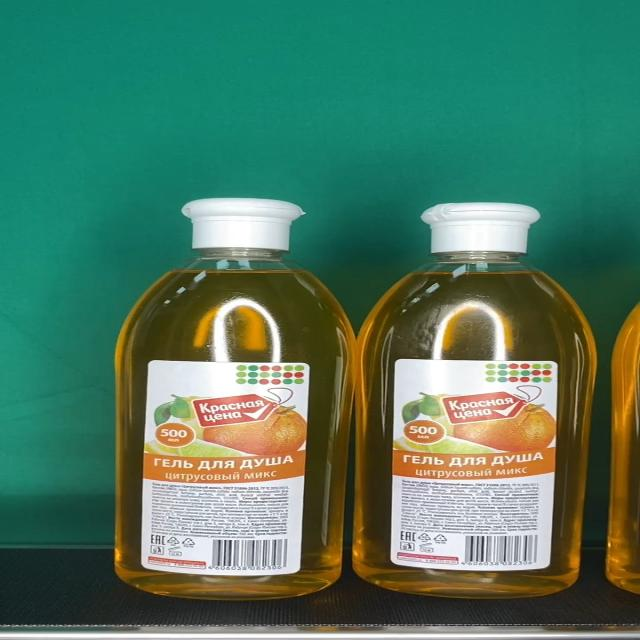Bottle: (114, 198, 360, 600), (353, 202, 598, 598)
Cap: (420, 202, 541, 254), (182, 198, 304, 248)
